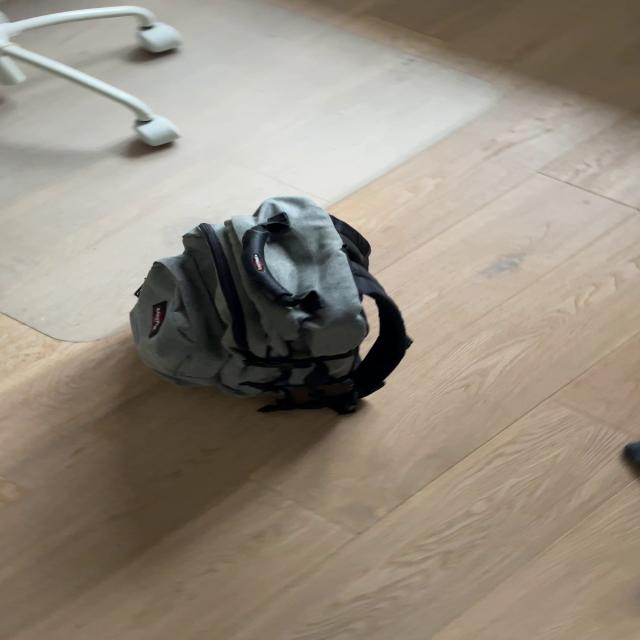backpack: (119, 195, 413, 419)
